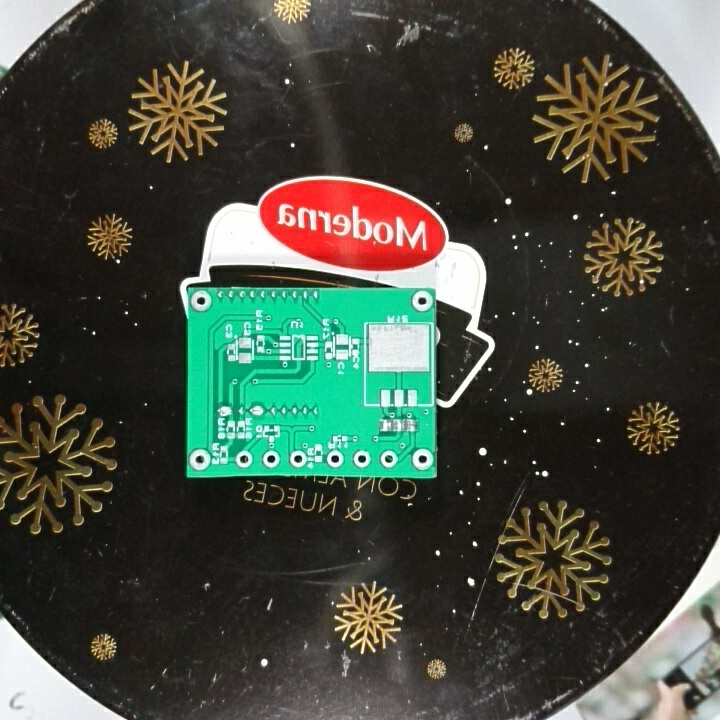F: (188, 446, 211, 475), (189, 289, 214, 315), (410, 446, 434, 471), (409, 289, 434, 312), (377, 447, 399, 472), (350, 449, 373, 471), (234, 449, 256, 471), (324, 448, 345, 471), (262, 447, 282, 469), (288, 449, 308, 470)
P: (247, 401, 267, 418), (214, 405, 234, 419)
